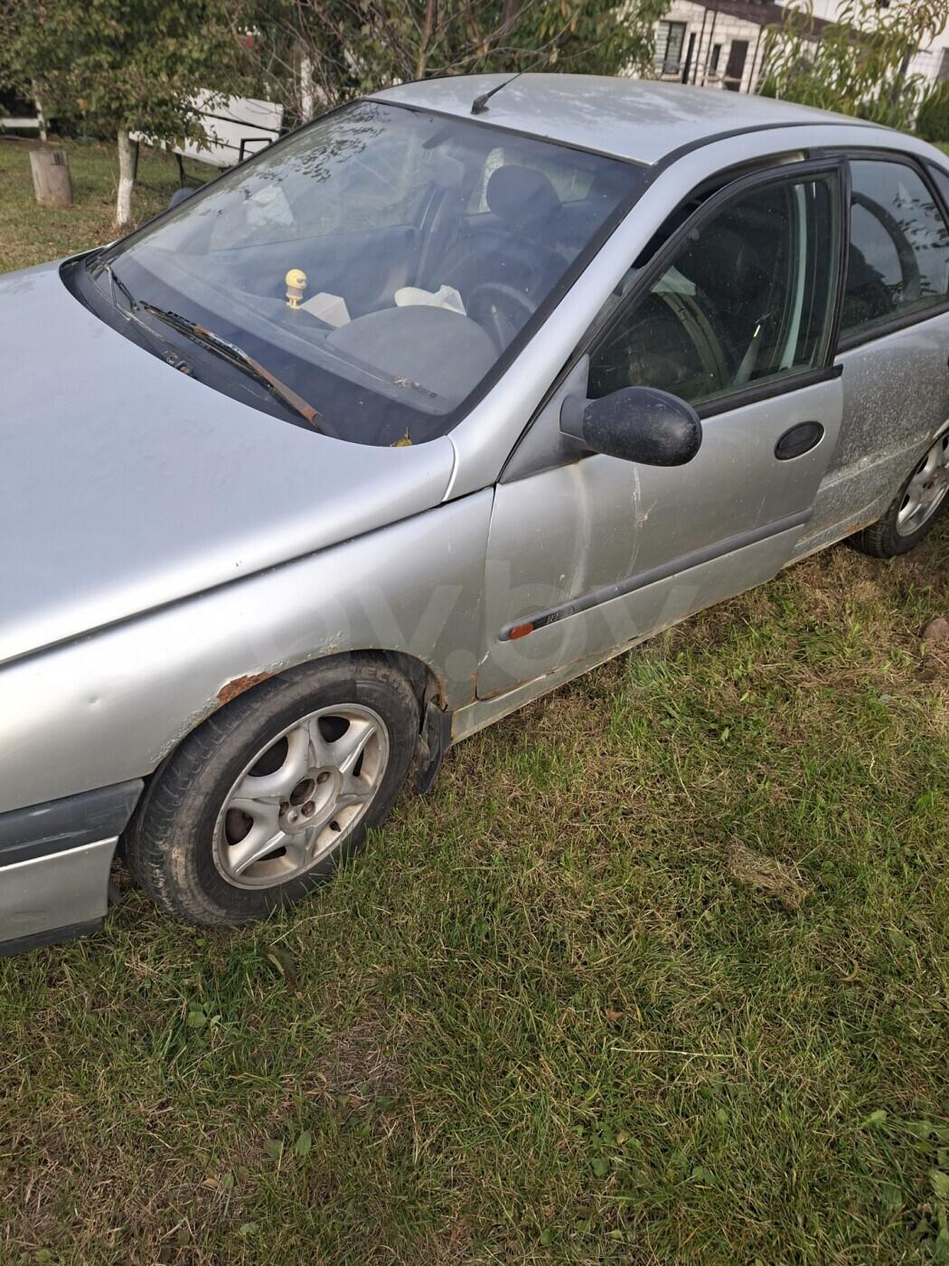Lahuna_1993-1999: (0, 61, 949, 978)
